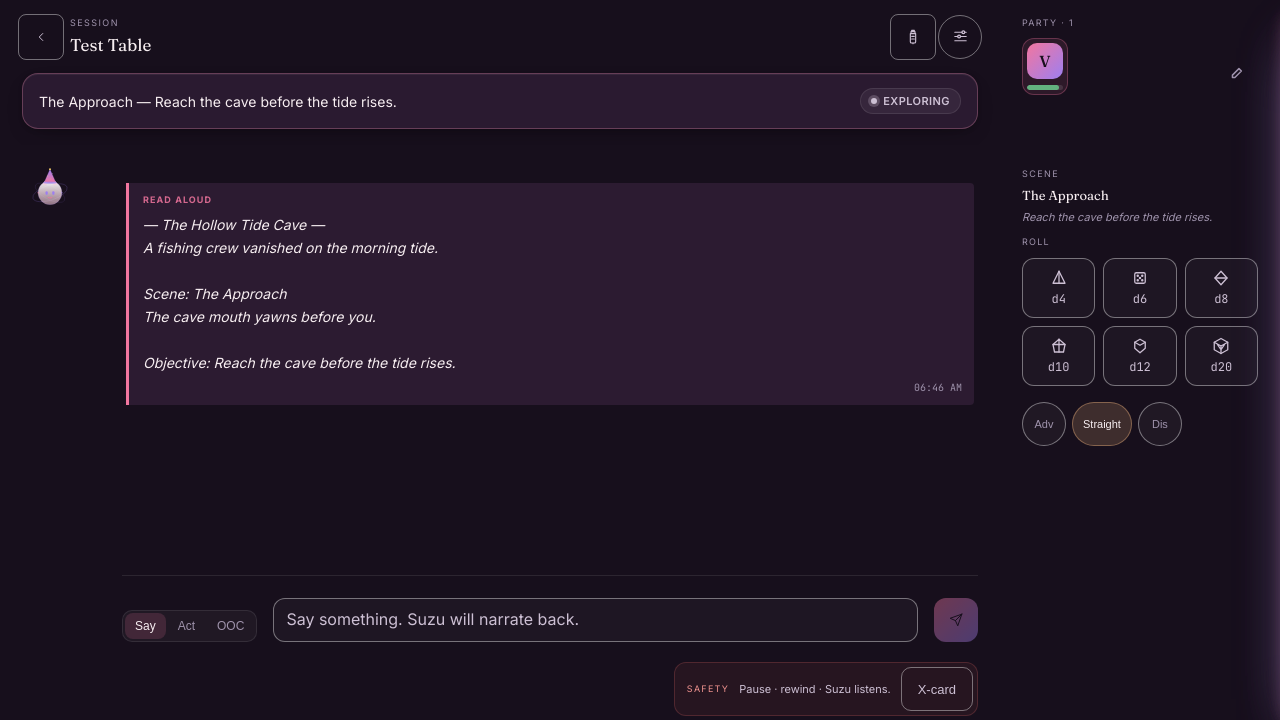
Scenario: QA re-verify — the `?? 0` collapse: two GENUINELY DISTINCT null-seq events in one batch › characterization (accepted trade-off per the production comment, not a regression): the SECOND null-seq event in a tick is silently dropped and never rendered,
Expected: the text "Test Table" is shown, [70, 32, 151, 57]
Click the button named "Open journal": (913, 36) [890, 14, 936, 60]
Wait 12000 ms
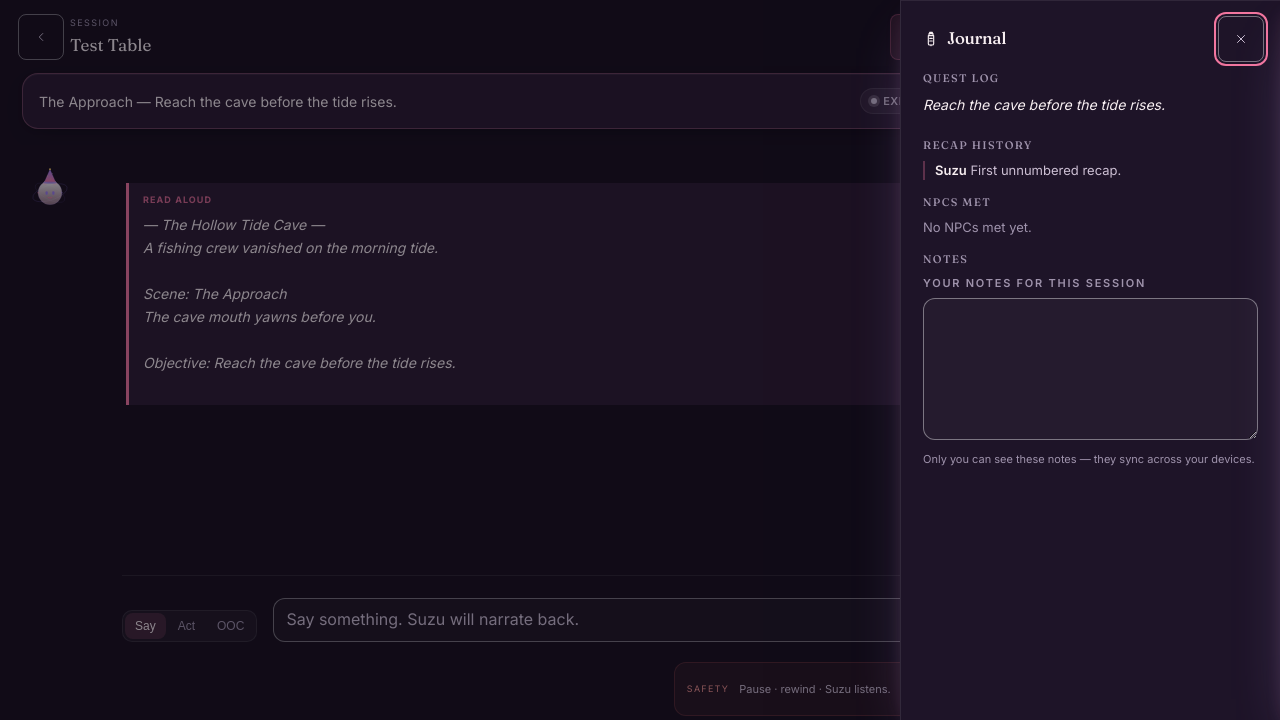
Expected: the number of list items "First unnumbered recap." is 1, [923, 160, 1258, 180]
